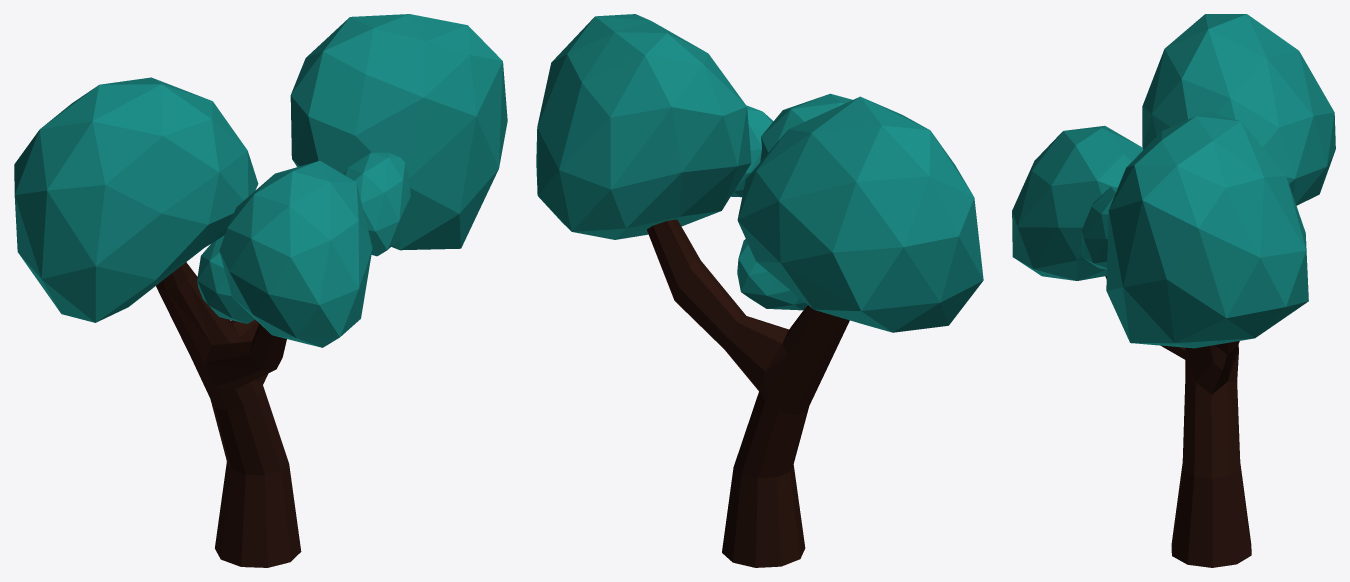
File: t2-cyan.obj
The picture shows the model from 3 angles, left to right: view 1: azimuth 30°, elevation 25°; view 2: azimuth 150°, elevation 25°; view 3: azimuth 270°, elevation 25°; orthographic projection. The views are drawn at different scales.
Parts seen in each view (by area): view 1: t2-cyan_Icosphere.018; view 2: t2-cyan_Icosphere.018; view 3: t2-cyan_Icosphere.018.
Part boxes in pixels (x1,y1,x2,y2): t2-cyan_Icosphere.018: (14, 14, 507, 567); t2-cyan_Icosphere.018: (536, 14, 983, 567); t2-cyan_Icosphere.018: (1012, 14, 1335, 567).
Size of the model in its own units: 6.73 by 7.18 by 4.35.
